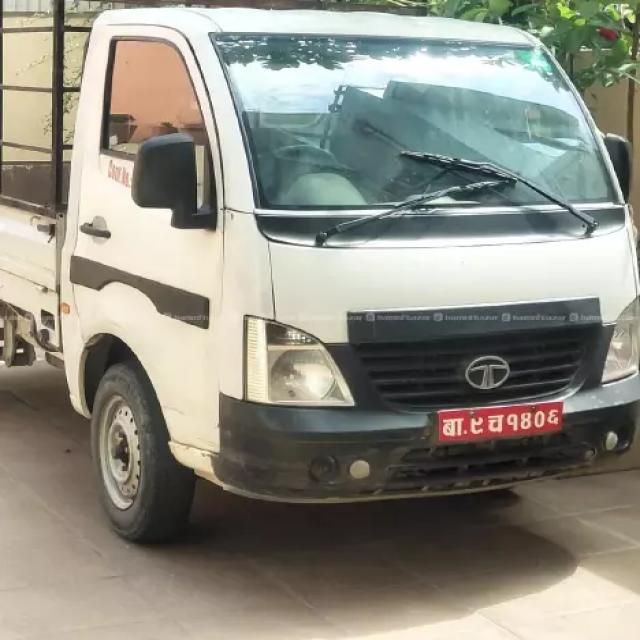License-plate: (430, 406, 576, 442)
